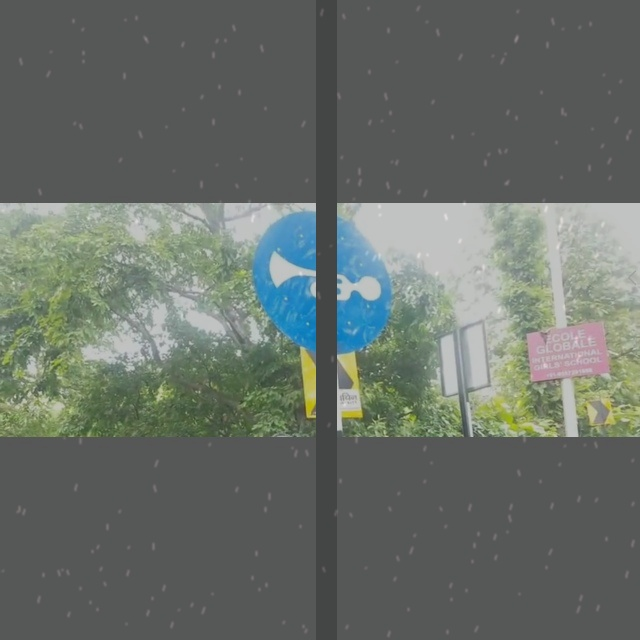Compulsory_Sound_Horn: (254, 214, 399, 349)
